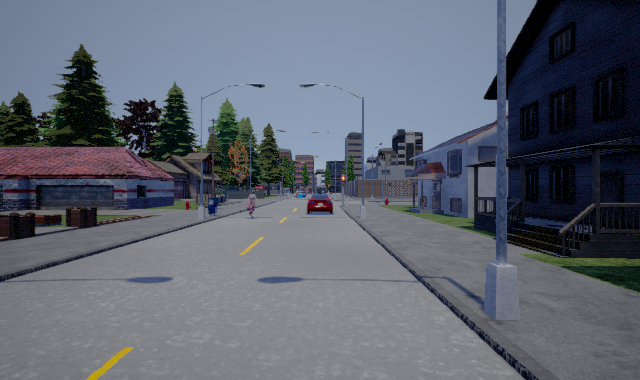bike: (246, 190, 258, 221)
traffic_light: (341, 175, 347, 185)
vehicle: (307, 193, 334, 214)
